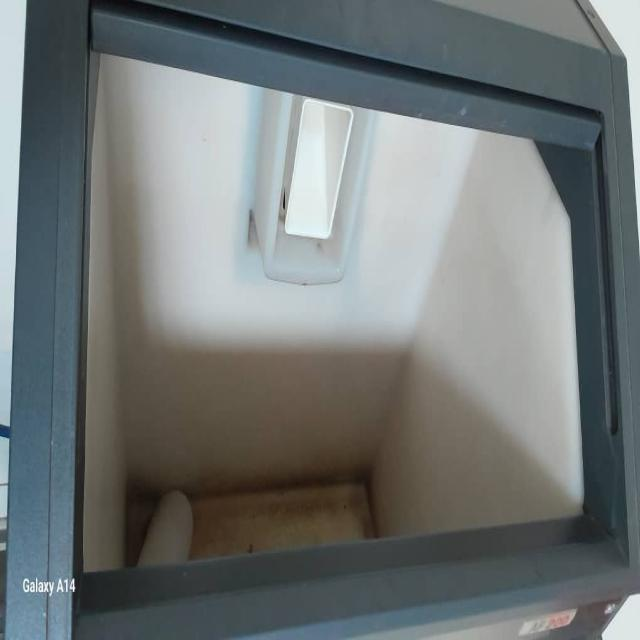Ice Maker: (56, 4, 636, 639)
